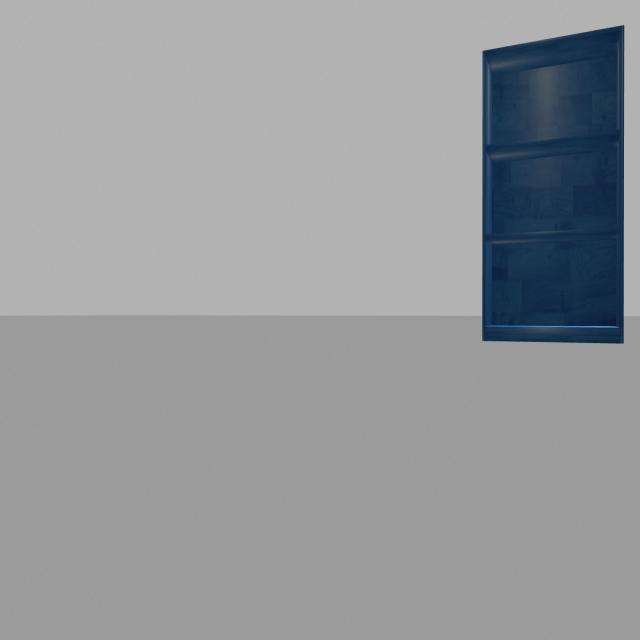shelf: (474, 24, 630, 347)
